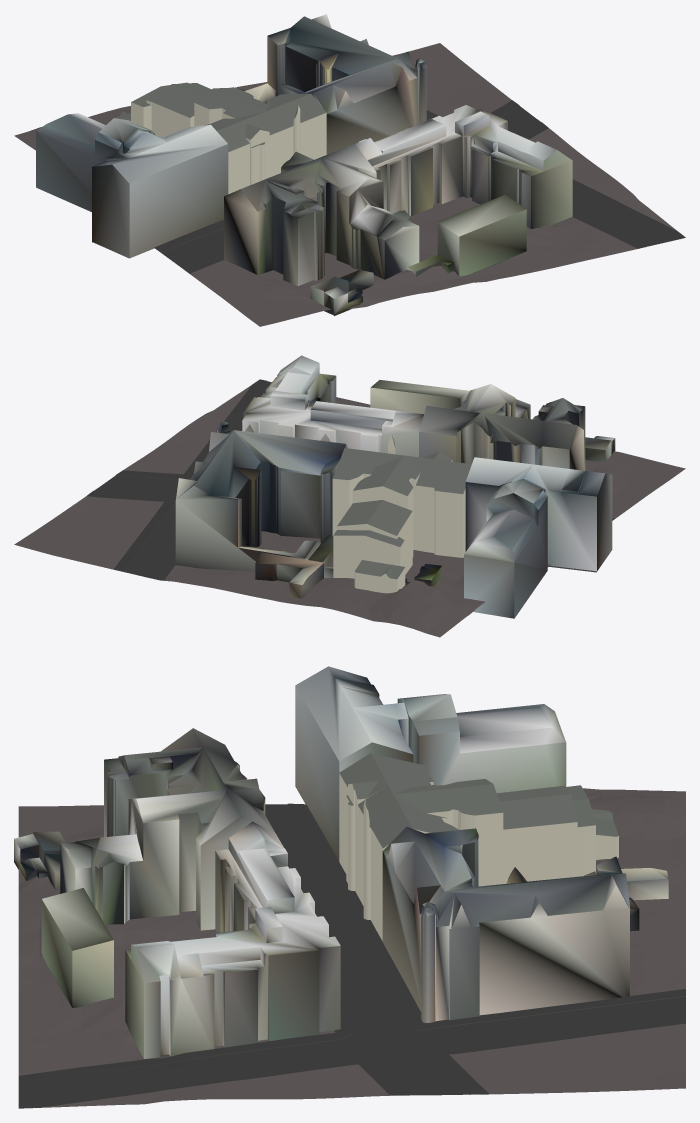
3 renders of one model, top to bottom at view 1: azimuth 30°, elevation 25°; view 2: azimuth 150°, elevation 25°; view 3: azimuth 270°, elevation 25°, orthographic. The views are drawn at different scales.
Parts seen in each view (by area): view 1: c_m02_p10; view 2: c_m02_p10; view 3: c_m02_p10.
Part boxes in pixels (x1=…): c_m02_p10: x1=14, y1=14, x2=685, y2=326; c_m02_p10: x1=14, y1=355, x2=685, y2=637; c_m02_p10: x1=14, y1=666, x2=685, y2=1108.
Bounding box in the file's own units: 140 × 30.62 × 129.
